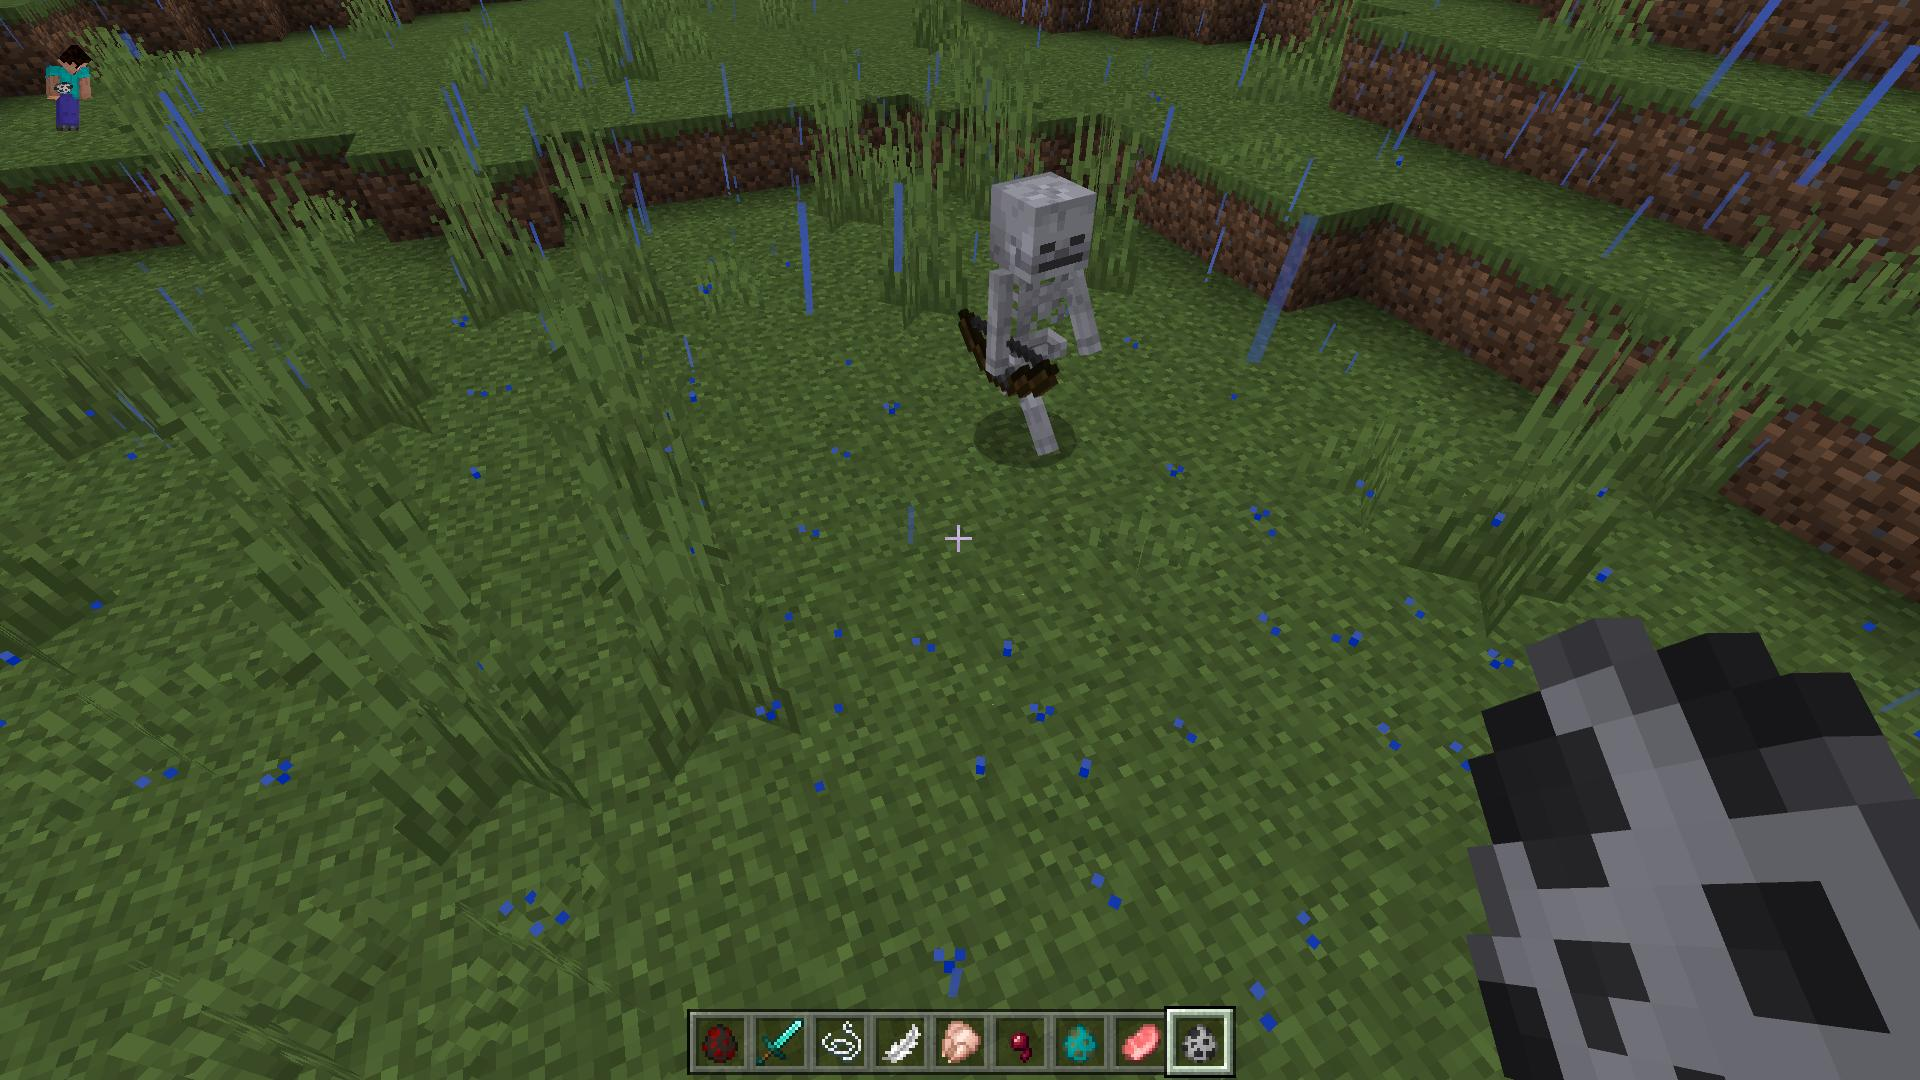skeleton: (956, 165, 1106, 459)
